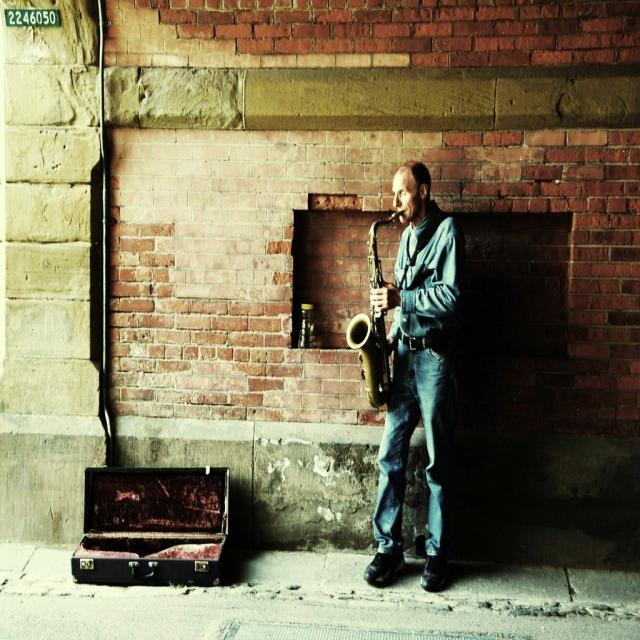saxophone: (344, 209, 406, 409)
